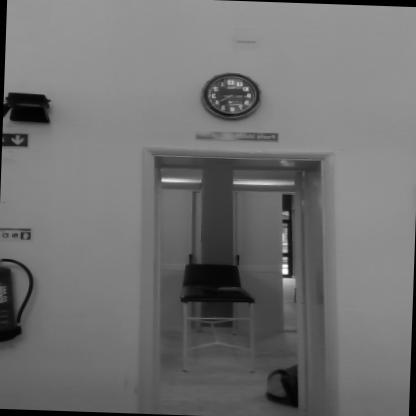open: (125, 142, 335, 413)
